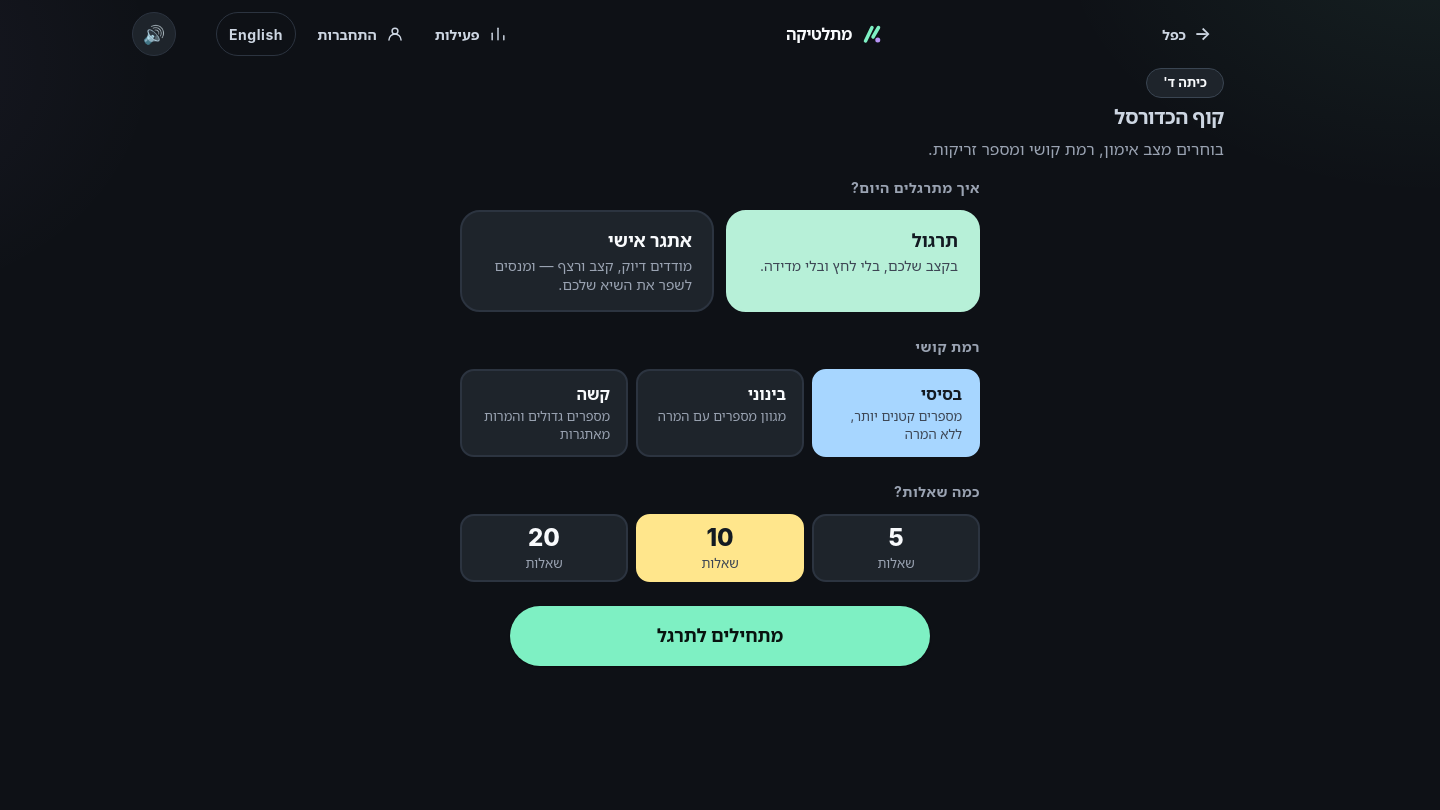
Basketball Monkey training activity › animates a miss toward the chosen hoop and keeps shared wrong-answer behavior
Click the button with test id "tr-count-5". click: (896, 548)
box: [812, 514, 980, 582]
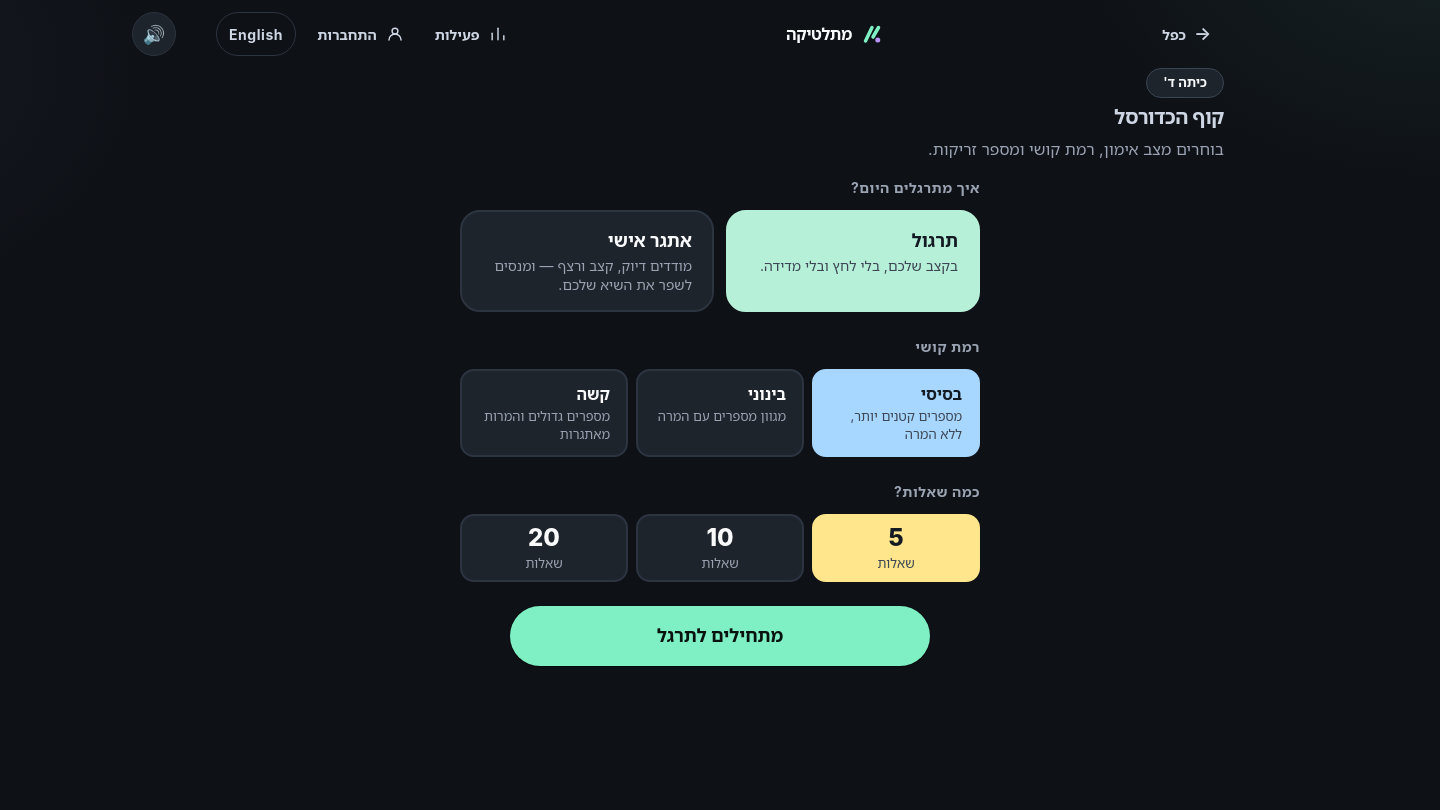
Click the button with test id "tr-start". click: (720, 636)
box: [510, 606, 930, 666]
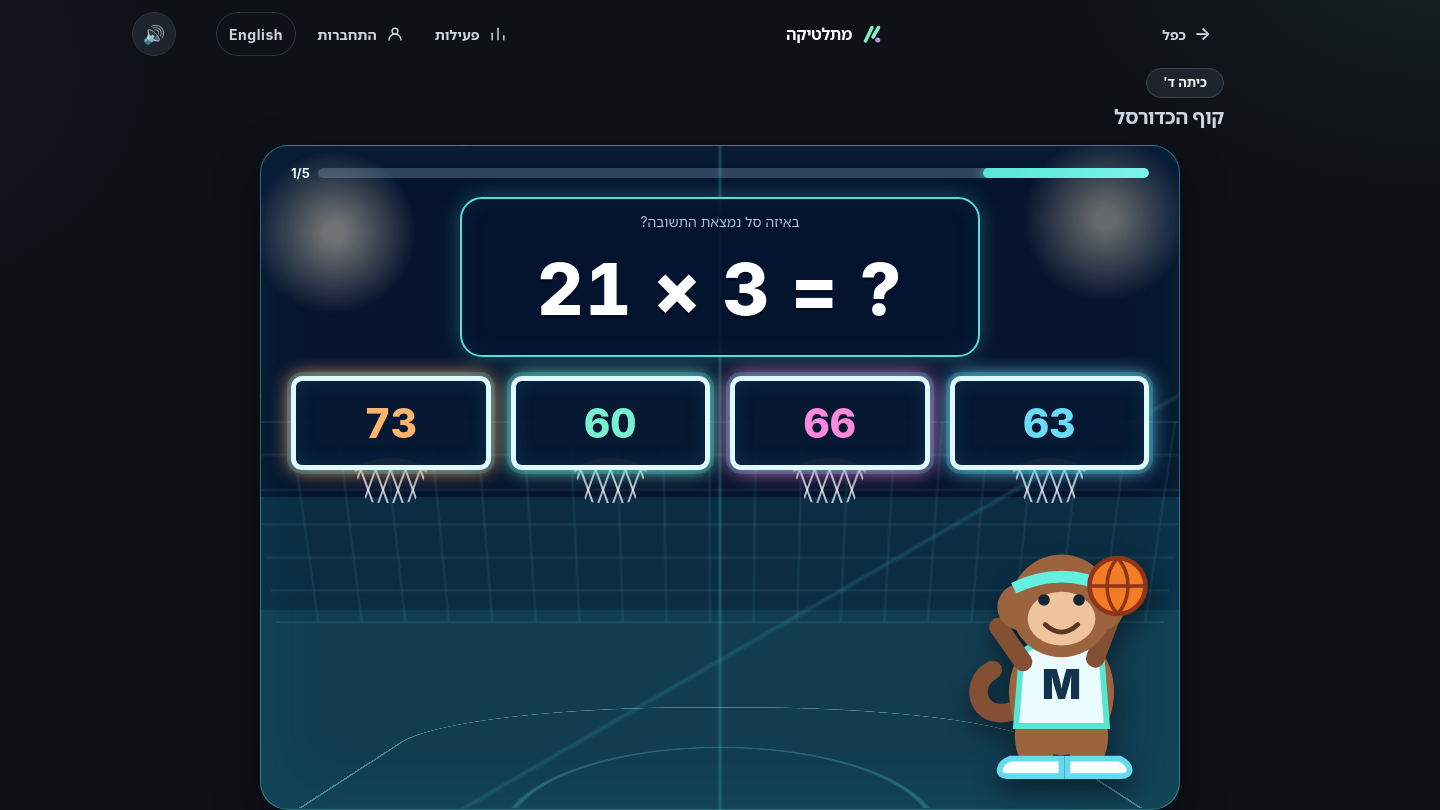
Click the button with test id "tr-option-66". click: (830, 423)
box: [730, 376, 930, 470]
Wait 1200 ms
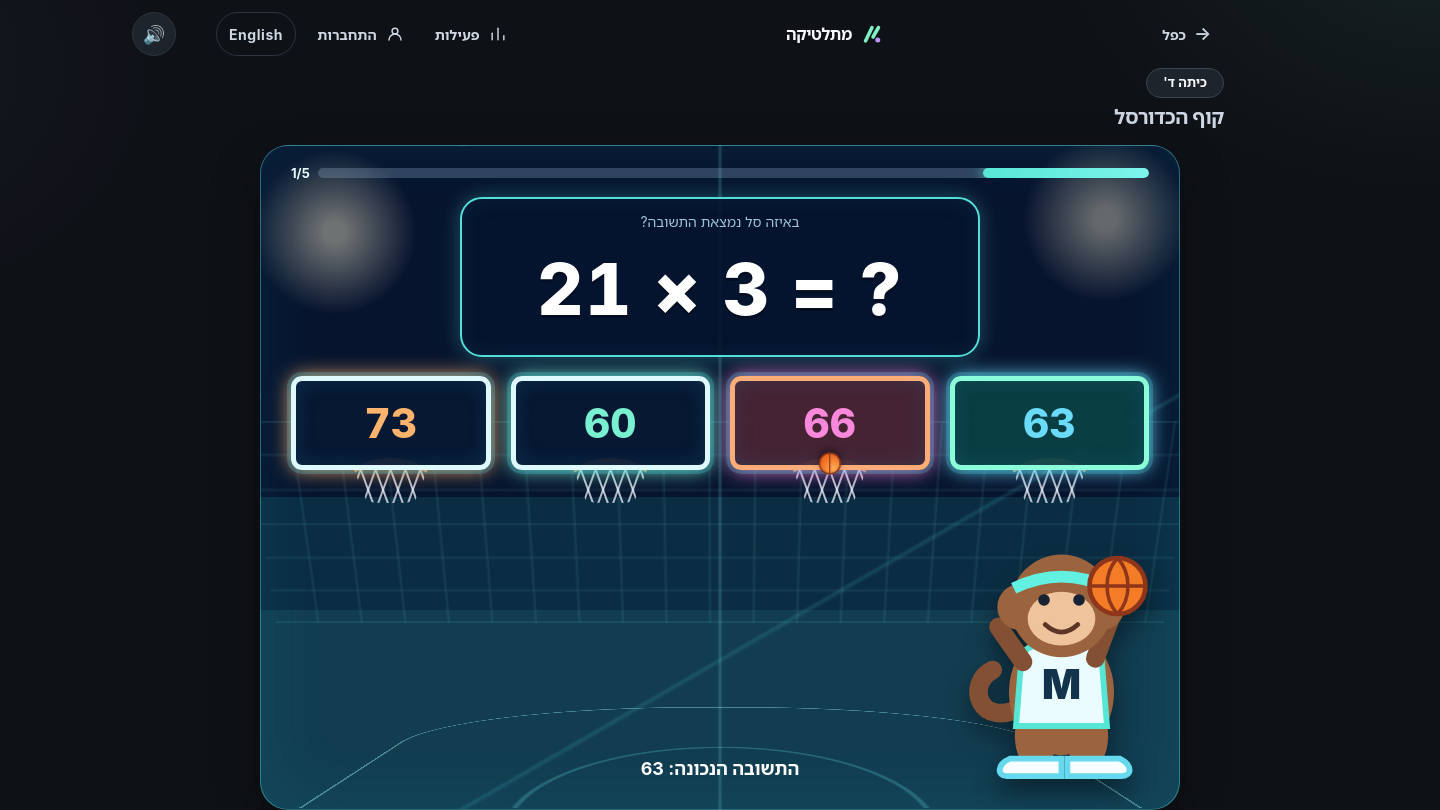
Expected: the element with test id "tr-question" shows "21 × 3", [537, 245, 903, 332]
Click the button with test id "tr-option-63". click: (1049, 423)
box: [950, 376, 1149, 470]
Wait 450 ms
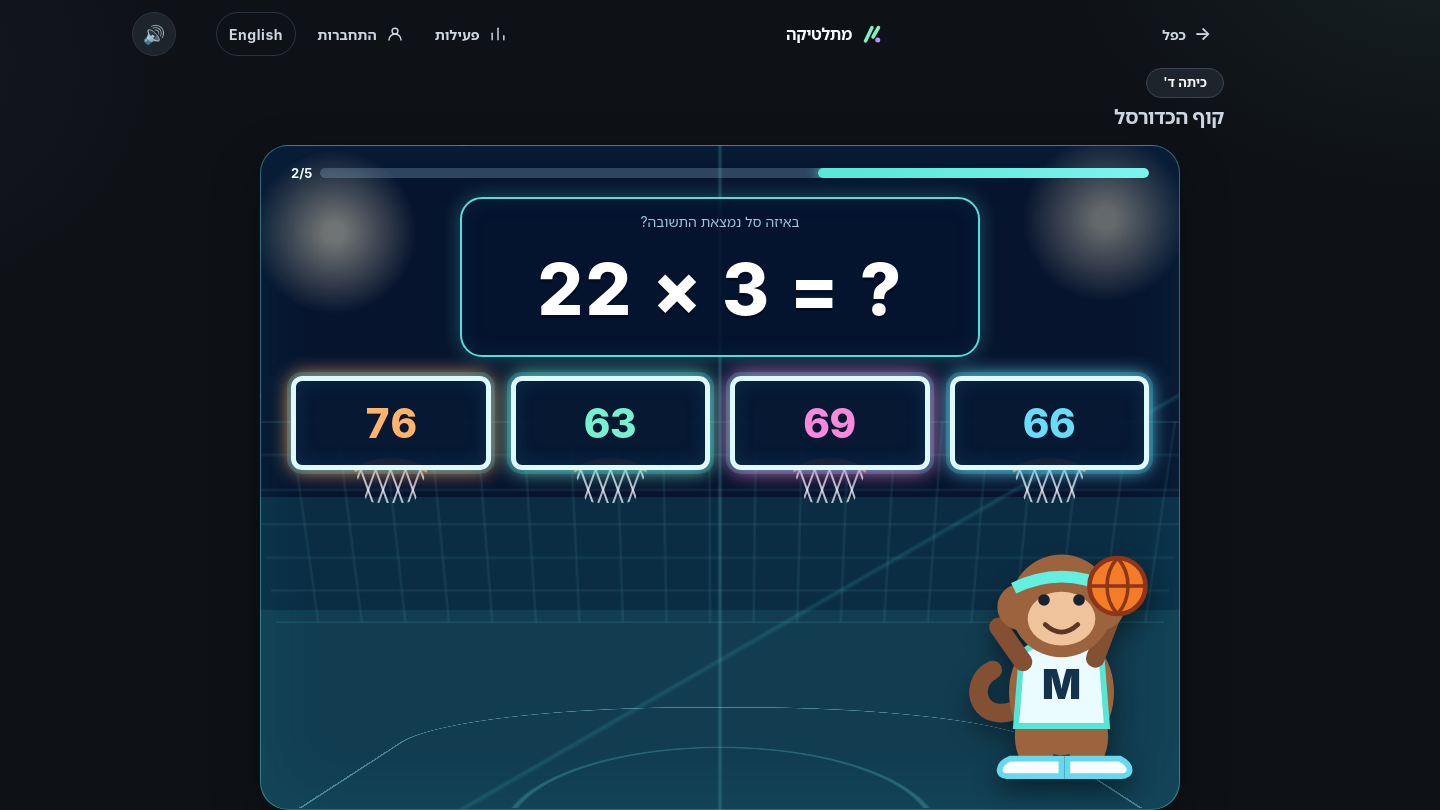
Expected: the element with test id "tr-question" shows "22 × 3", [537, 245, 903, 332]
